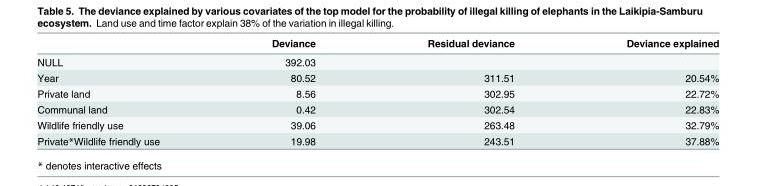table: (36, 36, 718, 146)
table column: (370, 36, 569, 146), (36, 36, 215, 146), (215, 36, 370, 146), (569, 36, 718, 146)
table column header: (36, 36, 718, 52)
table row: (36, 52, 718, 69), (36, 36, 718, 52), (36, 69, 718, 85), (36, 85, 718, 101), (36, 116, 718, 132), (36, 101, 718, 116), (36, 132, 718, 146)
